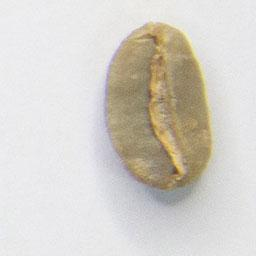longberry: (98, 19, 217, 195)
